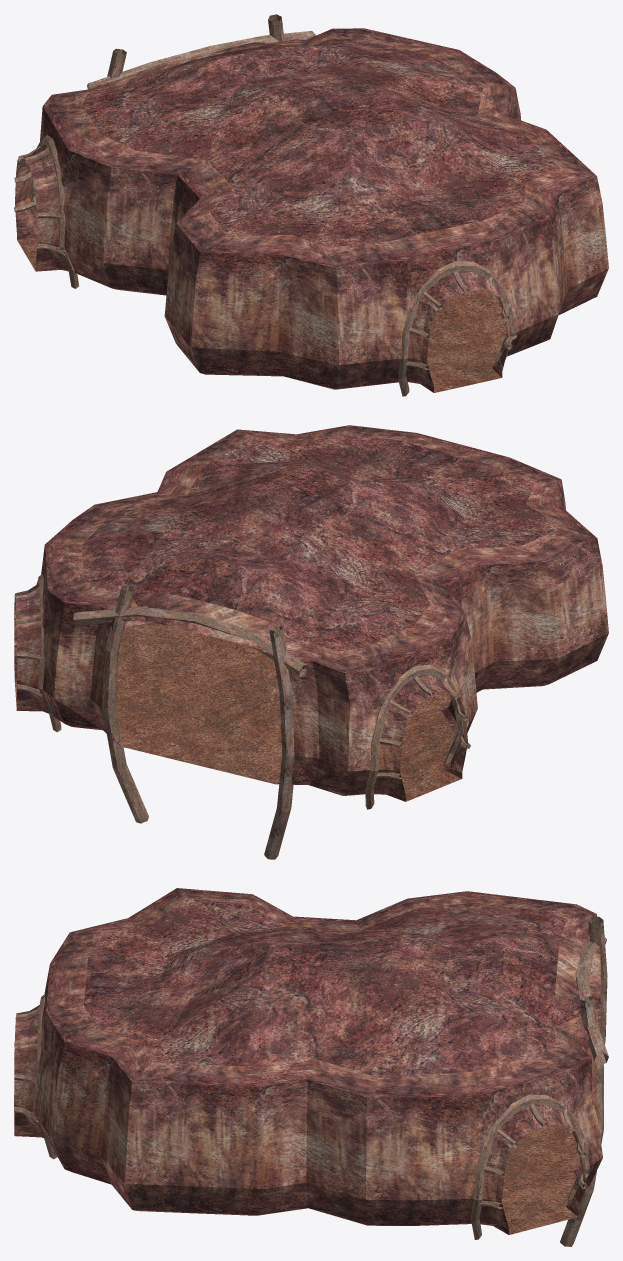
The model's file is thm_dath_night_sister_stronghold_r9_mesh_r9.fbx.
The picture shows the model from 3 angles, top to bottom: view 1: azimuth 30°, elevation 25°; view 2: azimuth 150°, elevation 25°; view 3: azimuth 270°, elevation 25°; orthographic projection. The views are drawn at different scales.
Visible parts, largest first — view 1: mesh_node; view 2: mesh_node; view 3: mesh_node.
Part boxes in pixels (x1,y1,x2,y2): mesh_node: (14,14,608,396); mesh_node: (14,425,608,859); mesh_node: (14,888,608,1246).
Size of the model in its own units: 14.18 by 7.67 by 15.66.
